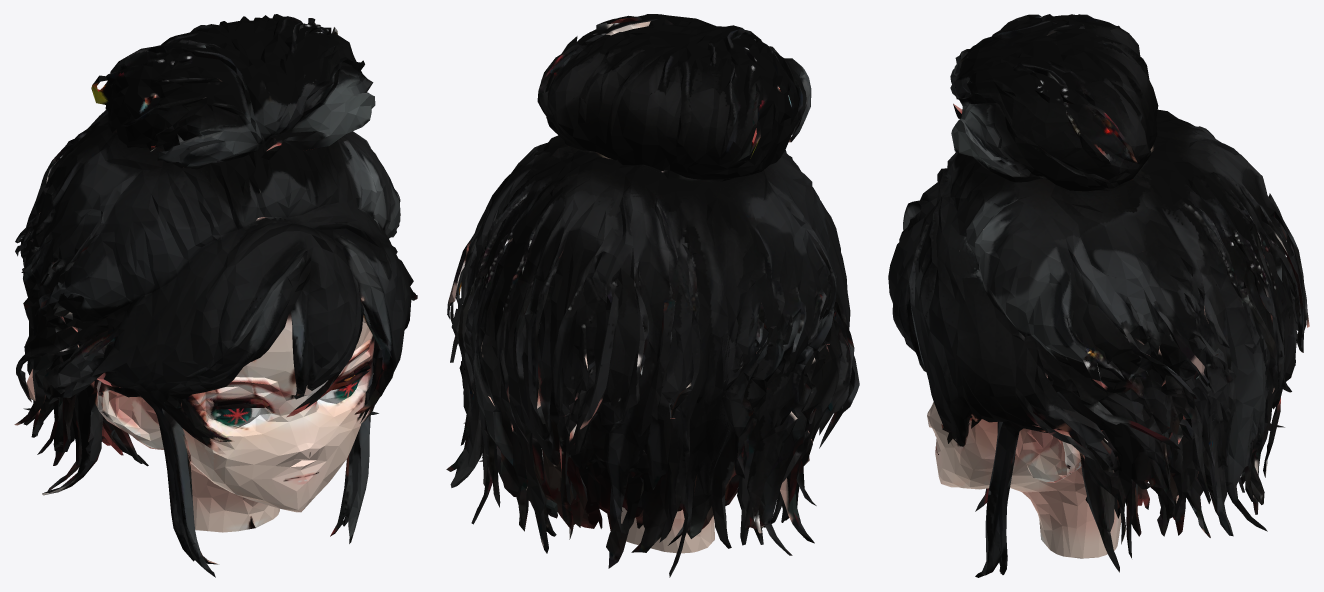
The model's file is side_oharu_repaired_atlas.glb.
The picture shows the model from 3 angles, left to right: view 1: azimuth 30°, elevation 25°; view 2: azimuth 150°, elevation 25°; view 3: azimuth 270°, elevation 25°; orthographic projection.
Visible parts, largest first — view 1: temp_mesh.ply; view 2: temp_mesh.ply; view 3: temp_mesh.ply.
Part boxes in pixels (x1,y1,x2,y2): temp_mesh.ply: (14,14,417,577); temp_mesh.ply: (446,14,859,577); temp_mesh.ply: (888,14,1309,577).
Bounding box in the file's own units: 1.52 × 1.97 × 1.5.
1 material, 1 textured.
